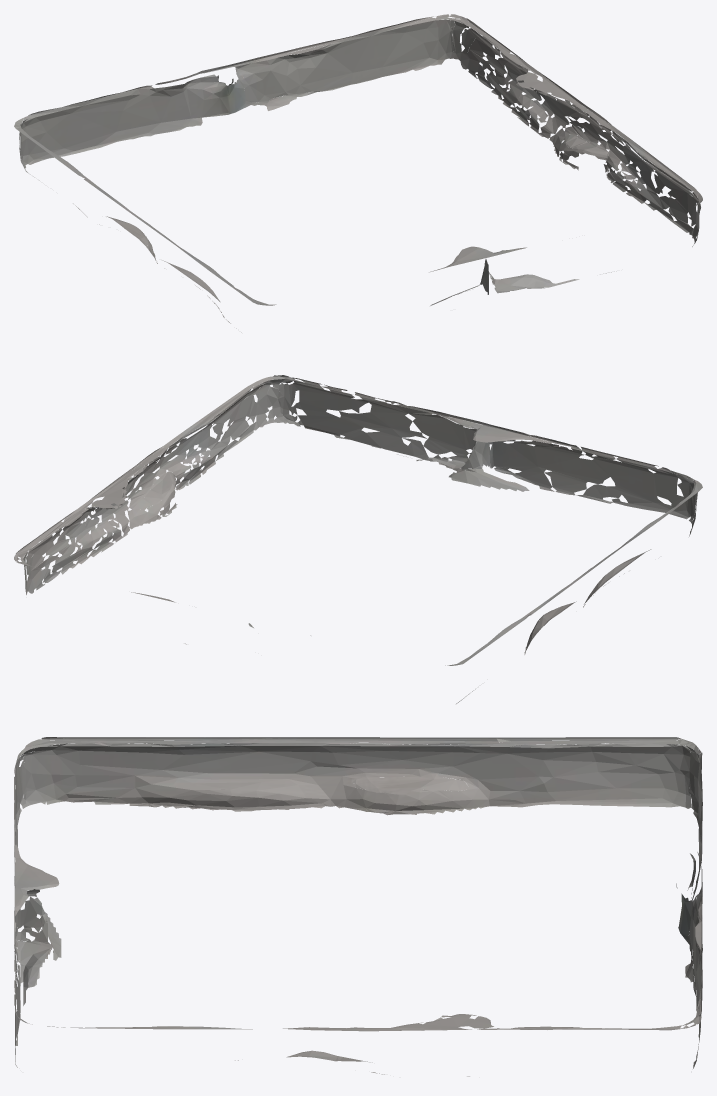
Rendered from floor.glb.
3 renders of one model, top to bottom at view 1: azimuth 30°, elevation 25°; view 2: azimuth 150°, elevation 25°; view 3: azimuth 270°, elevation 25°, orthographic. The views are drawn at different scales.
Visible parts, largest first — view 1: textured_mesh.obj.004; view 2: textured_mesh.obj.004; view 3: textured_mesh.obj.004.
Part boxes in pixels (x1,y1,x2,y2): textured_mesh.obj.004: (14,14,702,332); textured_mesh.obj.004: (14,375,702,703); textured_mesh.obj.004: (14,737,702,1076).
Bounding box in the file's own units: 1.99 × 0.2155 × 1.99.
1 material, 1 textured.
